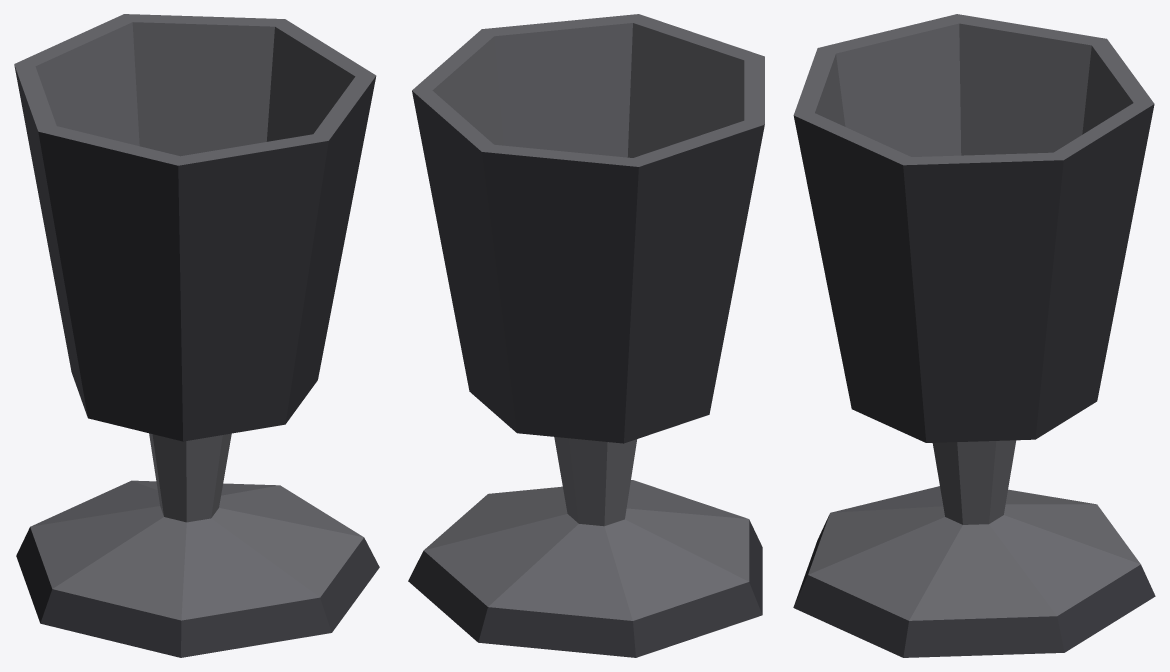
The model's file is Cup_3.fbx.
The picture shows the model from 3 angles, left to right: view 1: azimuth 30°, elevation 25°; view 2: azimuth 150°, elevation 25°; view 3: azimuth 270°, elevation 25°; orthographic projection.
Parts seen in each view (by area): view 1: polySurface1513; view 2: polySurface1513; view 3: polySurface1513.
Boxes of the visible parts, left/top/right/bottom form: polySurface1513: left=14, top=14, right=379, bottom=657; polySurface1513: left=408, top=14, right=764, bottom=657; polySurface1513: left=793, top=14, right=1155, bottom=657.
Bounding box in the file's own units: 15.6 × 23.35 × 15.62.
